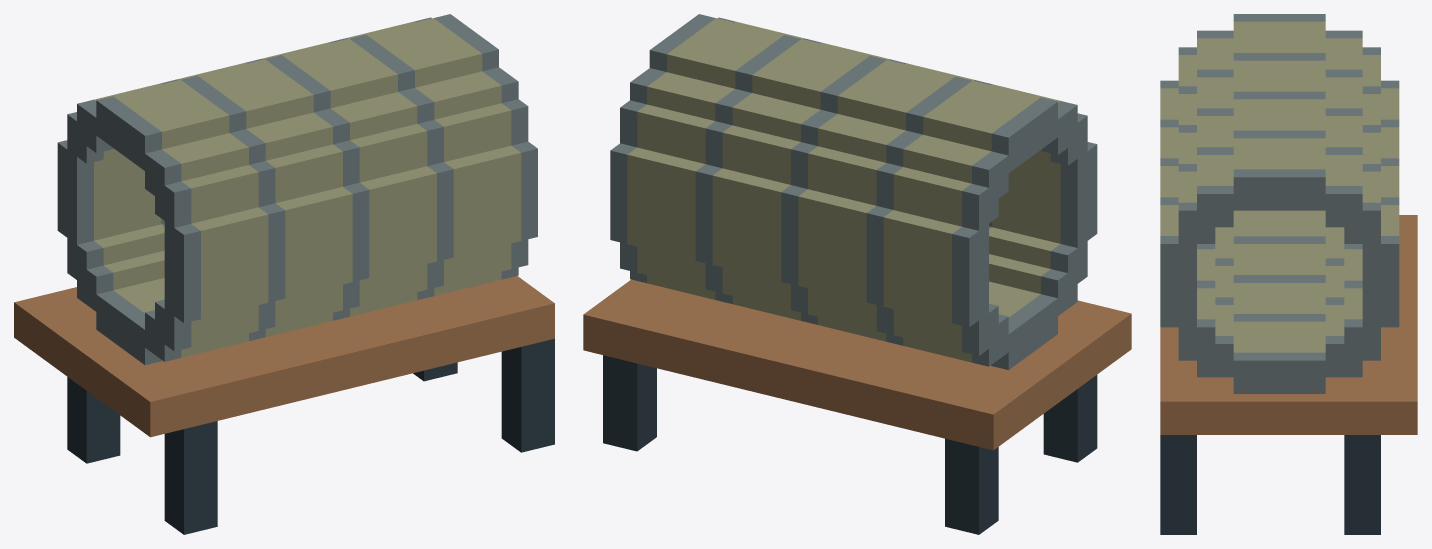
The model's file is chemistry-12.glb.
The picture shows the model from 3 angles, left to right: view 1: azimuth 30°, elevation 25°; view 2: azimuth 150°, elevation 25°; view 3: azimuth 270°, elevation 25°; orthographic projection. The views are drawn at different scales.
Parts seen in each view (by area): view 1: Distillation tower; view 2: Distillation tower; view 3: Distillation tower.
Part boxes in pixels (x1,y1,x2,y2): Distillation tower: [14, 14, 554, 534]; Distillation tower: [583, 14, 1131, 534]; Distillation tower: [1160, 14, 1417, 534].
Bounding box in the file's own units: 1.92 × 1.68 × 1.12.
